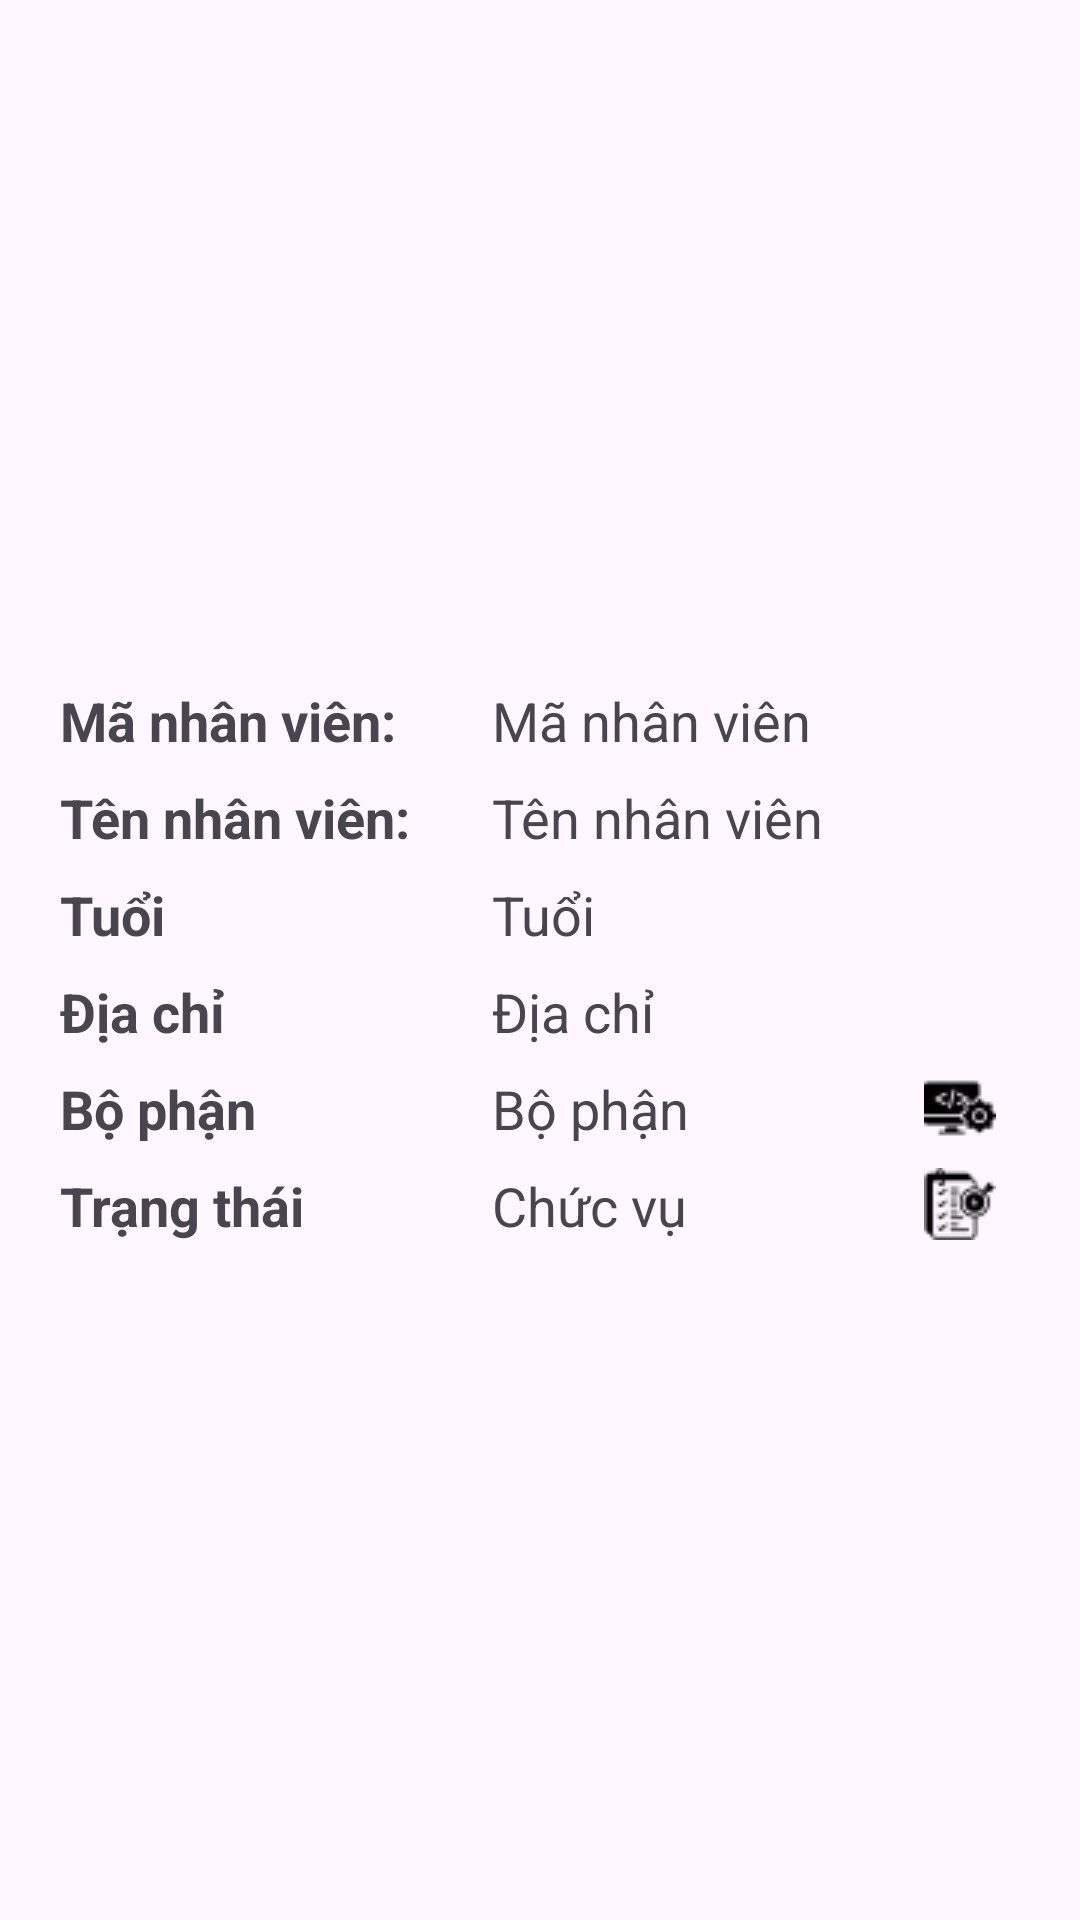

Icons on this 1080 x 1920 Android screen, each with the point to tap as (x=x, y=y):
dev: (x=960, y=1108)
